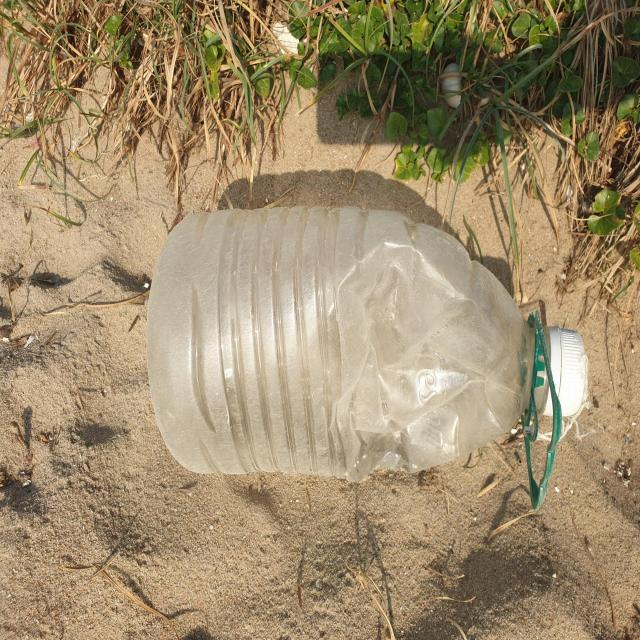plastic: (147, 206, 589, 511)
